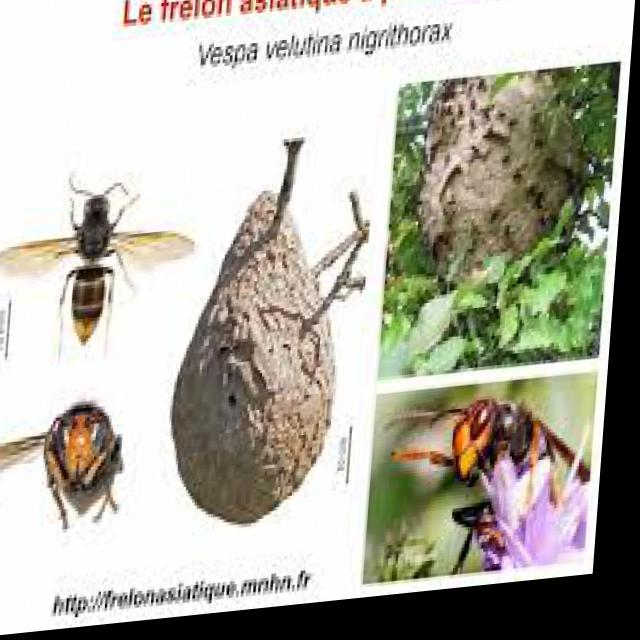Vespa Velutina: (373, 388, 603, 592)
